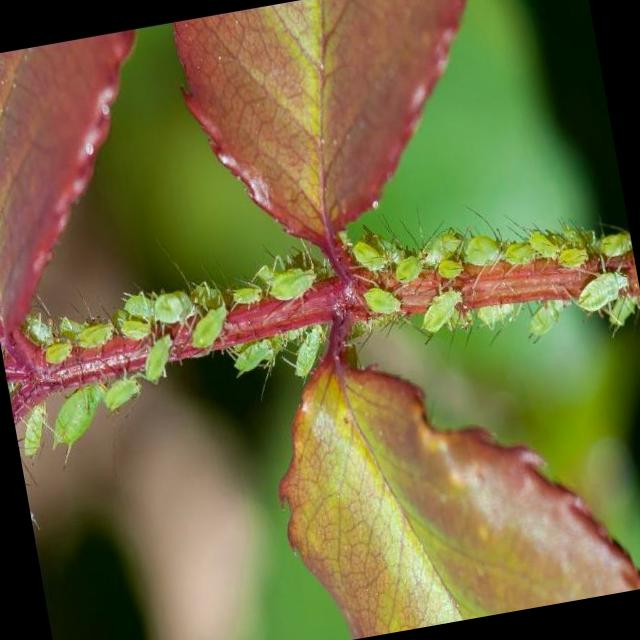aphid: (40, 374, 111, 468), (416, 280, 481, 352), (514, 285, 580, 355), (573, 256, 638, 324), (92, 352, 151, 424), (265, 248, 327, 314), (138, 326, 189, 396), (222, 260, 268, 328), (183, 294, 236, 353), (282, 320, 332, 382), (362, 278, 409, 336), (14, 402, 54, 458), (36, 328, 78, 372), (149, 288, 193, 326), (460, 232, 504, 268), (116, 312, 153, 349), (349, 235, 386, 272), (74, 321, 116, 351), (596, 230, 633, 260), (392, 254, 424, 284), (554, 244, 589, 270), (434, 256, 466, 282)
